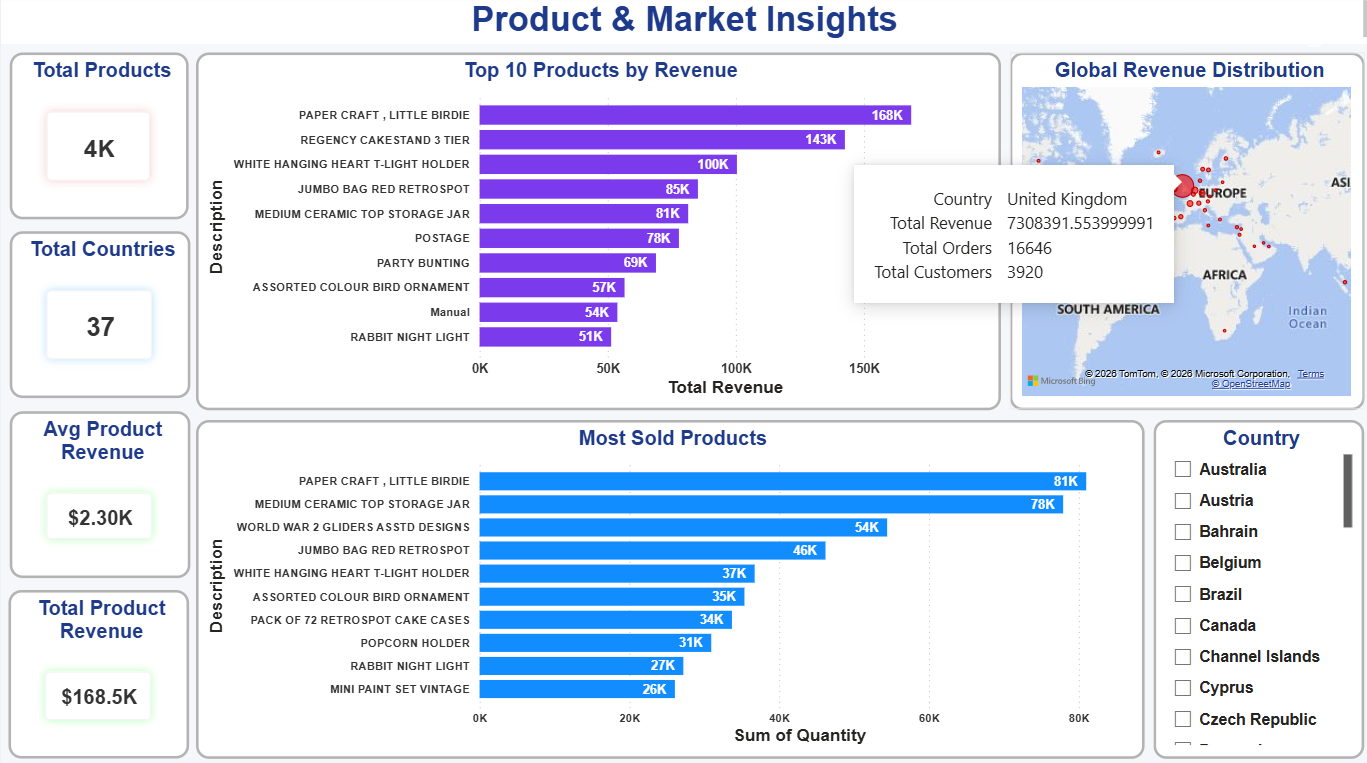

Layout of this report page (visuals, bound fields, positions):
{"tool":"powerbi","page":{"name":"Product & Market Insights","canvas":[1280,720],"ordinal":2},"visuals":[{"type":"textbox","box":[0,0,1280.2,45.3],"z":0},{"type":"cardVisual","title":"Total Products","fields":{"Data":["cleaned ecommerce data.Total Products"]},"box":[8.3,53.3,166.7,155],"z":1000},{"type":"cardVisual","title":"Avg Product Revenue","fields":{"Data":["cleaned ecommerce data.Avg Product Revenue"]},"box":[8.3,386.7,168.3,155],"z":2000},{"type":"cardVisual","title":"Total Product Revenue","fields":{"Data":["cleaned ecommerce data.Top Product Revenue"]},"box":[6.7,553.3,168.3,156.7],"z":3000},{"type":"cardVisual","title":"Total Countries","fields":{"Data":["cleaned ecommerce data.Total Countries"]},"box":[8.3,220,168.3,155],"z":4000},{"type":"clusteredBarChart","title":"Top 10 Products by Revenue","fields":{"Category":["cleaned ecommerce data.Description"],"Y":["cleaned ecommerce data.Total Revenue"]},"box":[181.2,53.8,748.8,332.5],"z":5000},{"type":"clusteredBarChart","title":"Most Sold Products","fields":{"Category":["cleaned ecommerce data.Description"],"Y":["Sum(cleaned ecommerce data.Quantity)"]},"box":[181.2,395,882.5,315],"z":6000},{"type":"map","title":"Global Revenue Distribution","fields":{"Category":["cleaned ecommerce data.Country"],"Size":["cleaned ecommerce data.Total Revenue"]},"box":[938.8,53.8,330,332.5],"z":7000},{"type":"slicer","title":"Country","fields":{"Values":["cleaned ecommerce data.Country"]},"box":[1072.5,395,196.2,315],"z":8000}]}

Visuals, with their boxes in screenshot pixels (x1, y1, x2, y2), scaled from the page's 1280x720 canvas onto the 1367x763 screenshot:
textbox: Rect(0, 0, 1366, 48)
"Total Products" cardVisual: Rect(9, 56, 187, 221)
"Avg Product Revenue" cardVisual: Rect(9, 410, 189, 574)
"Total Product Revenue" cardVisual: Rect(7, 586, 187, 752)
"Total Countries" cardVisual: Rect(9, 233, 189, 397)
"Top 10 Products by Revenue" clusteredBarChart: Rect(194, 57, 993, 409)
"Most Sold Products" clusteredBarChart: Rect(194, 419, 1136, 752)
"Global Revenue Distribution" map: Rect(1003, 57, 1355, 409)
"Country" slicer: Rect(1145, 419, 1355, 752)
